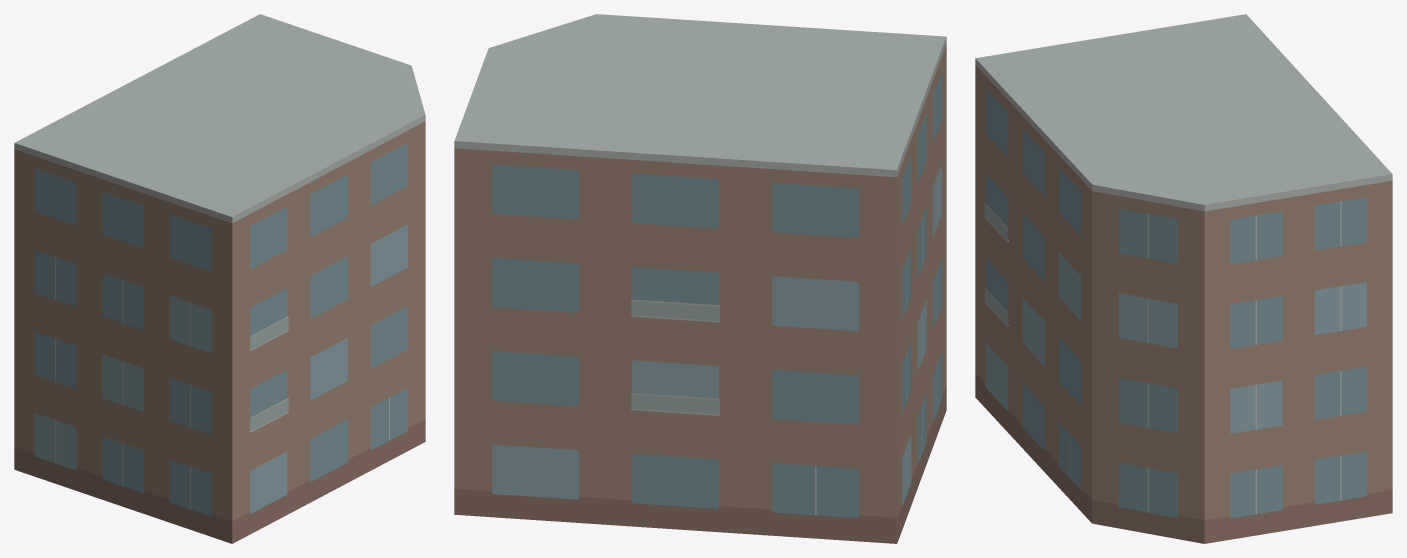
The model's file is survey-upis-33028944.glb.
3 renders of one model, left to right at view 1: azimuth 30°, elevation 25°; view 2: azimuth 150°, elevation 25°; view 3: azimuth 270°, elevation 25°, orthographic. The views are drawn at different scales.
Visible parts, largest first — view 1: survey-upis-33028944.tmp; view 2: survey-upis-33028944.tmp; view 3: survey-upis-33028944.tmp.
Boxes of the visible parts, x1,y1,x2,y2 form: survey-upis-33028944.tmp: (14, 14, 425, 543); survey-upis-33028944.tmp: (454, 14, 946, 543); survey-upis-33028944.tmp: (975, 14, 1392, 543).
Bounding box in the file's own units: 15.35 × 12.7 × 14.18.
